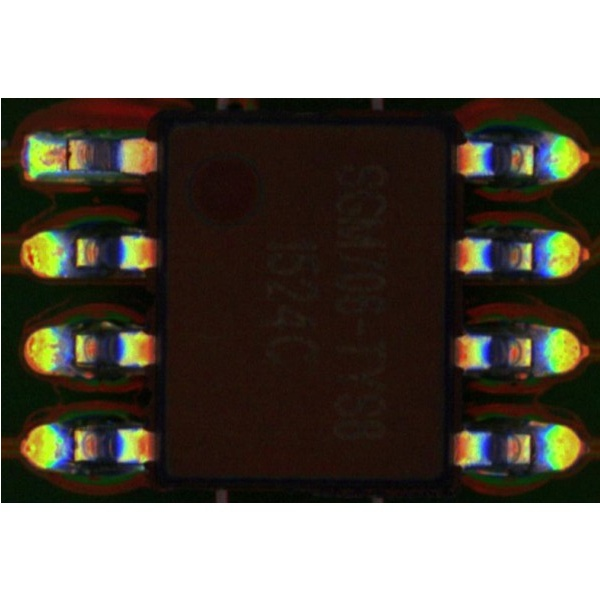Bad_podu: (51, 143, 76, 169)
